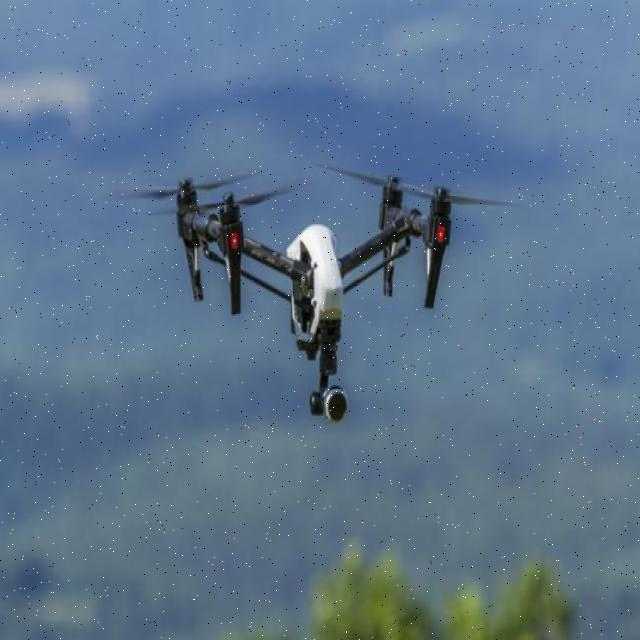UAV: (173, 166, 457, 428)
